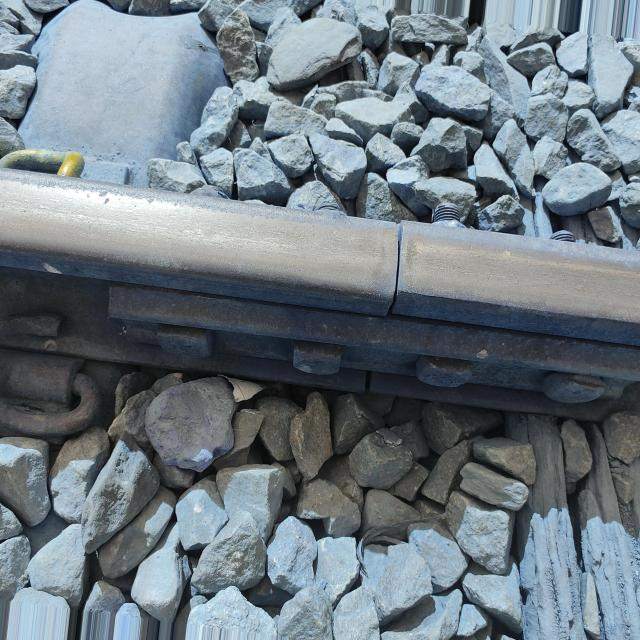squats_high: (98, 190, 110, 206), (146, 197, 154, 203)
